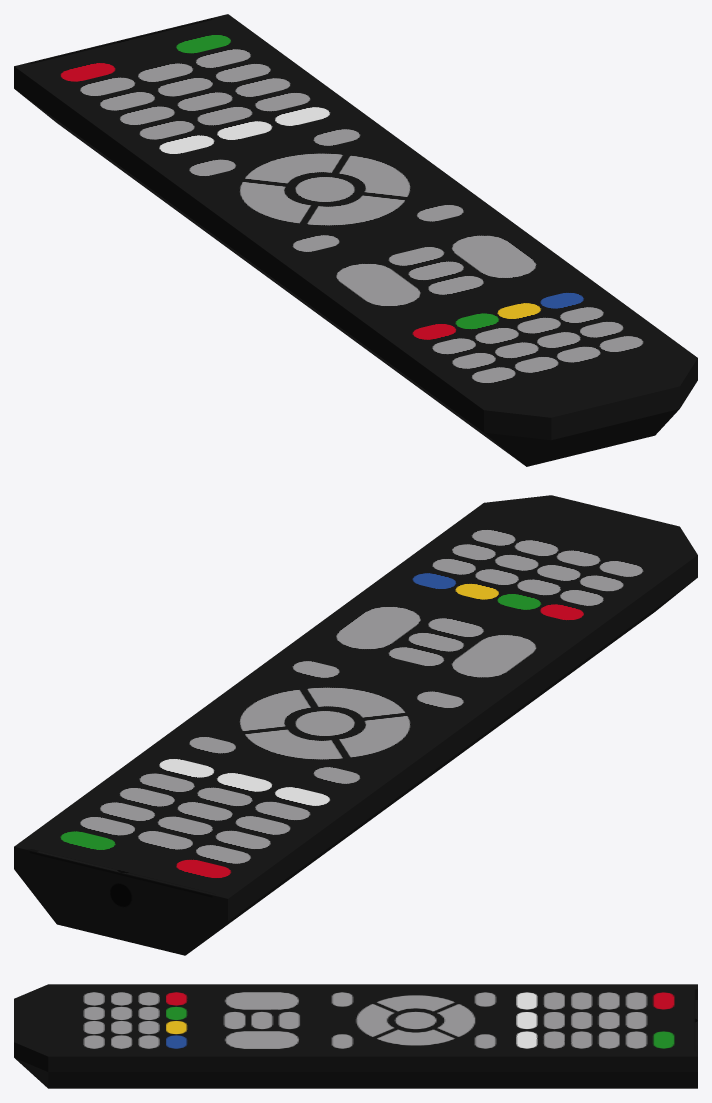
The model's file is TVRemote.fbx.
The picture shows the model from 3 angles, top to bottom: view 1: azimuth 30°, elevation 25°; view 2: azimuth 150°, elevation 25°; view 3: azimuth 270°, elevation 25°; orthographic projection. The views are drawn at different scales.
Visible parts, largest first — view 1: Cube.LOWPOLY; view 2: Cube.LOWPOLY; view 3: Cube.LOWPOLY.
Boxes of the visible parts, x1,y1,x2,y2 form: Cube.LOWPOLY: (14, 14, 697, 466); Cube.LOWPOLY: (14, 495, 697, 955); Cube.LOWPOLY: (14, 984, 697, 1088).
Bounding box in the file's own units: 5 × 1.5 × 20.
